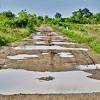Pothole: (0, 65, 100, 97), (9, 37, 89, 53), (4, 51, 100, 62), (31, 29, 65, 36)
